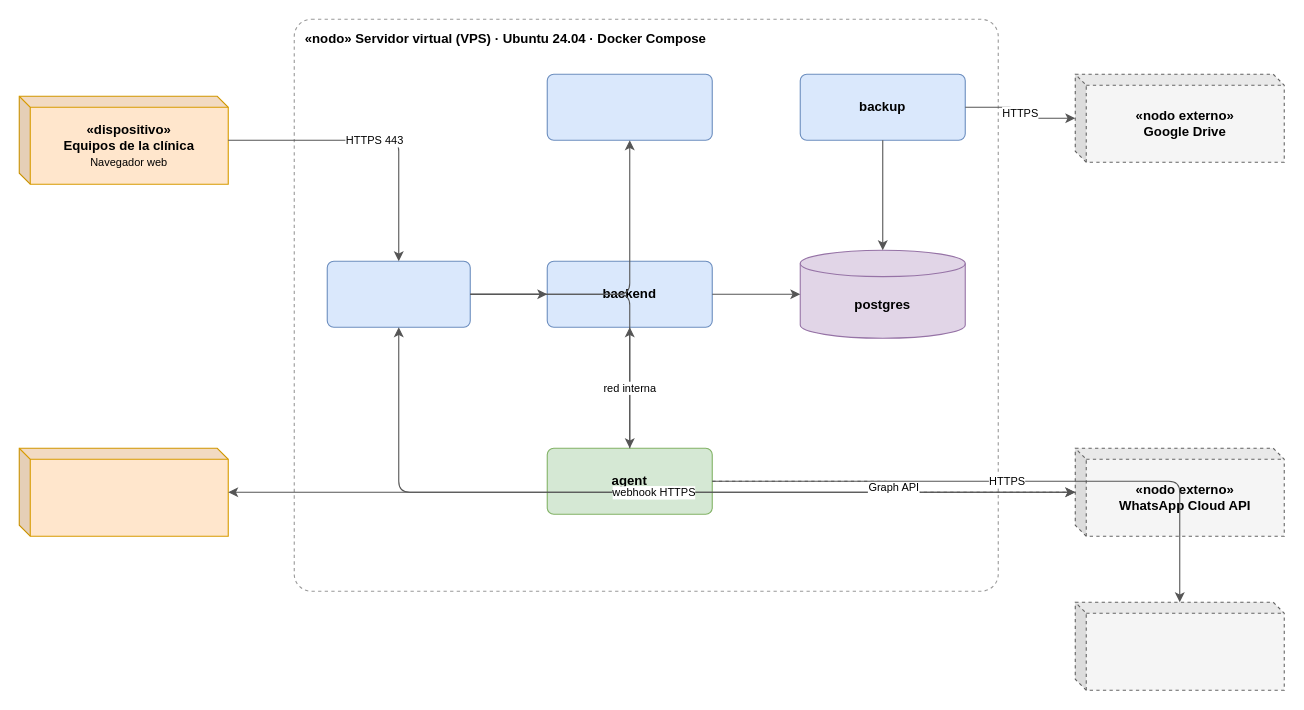
Image size: 1304x710. Some labels were removed from this diagram. The shapes that lost their labels are listed below. From the top down, each one's box as (x1, y1, x2, y2) in pixels, then its label:
(546, 73, 712, 140): frontend
(326, 260, 470, 327): caddy
(18, 447, 228, 536): «dispositivo» Teléfono del paciente WhatsApp
(1074, 601, 1284, 690): «nodo externo» Proveedor del modelo
